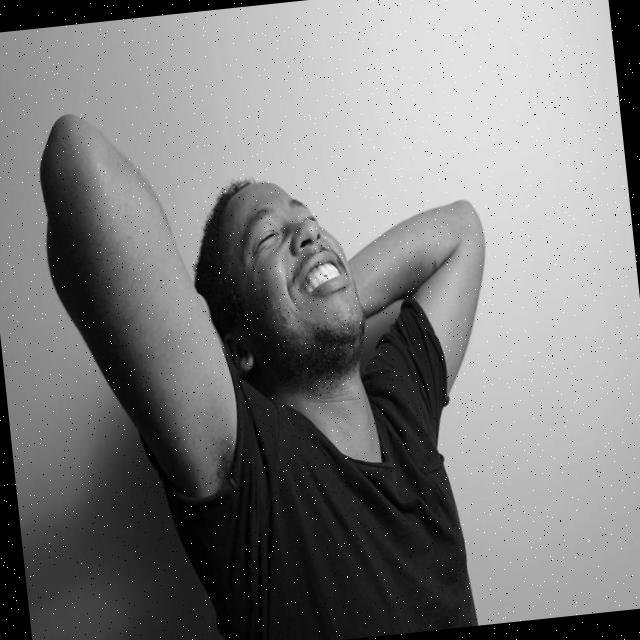Happiness: (213, 172, 369, 363)
